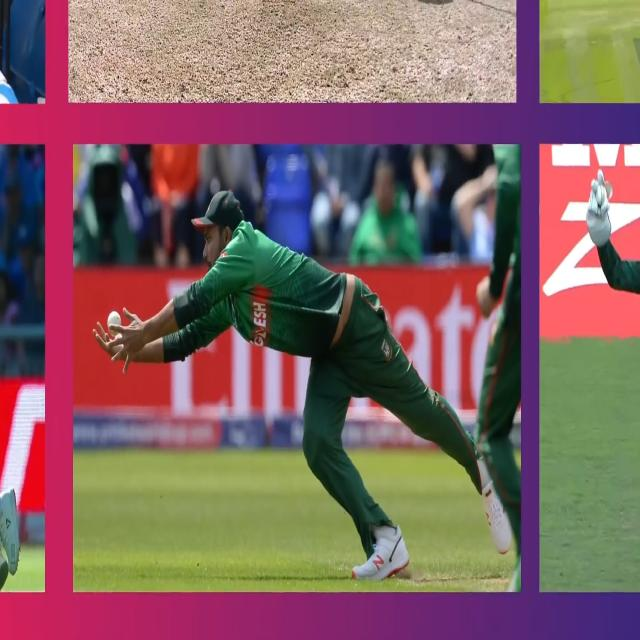ball: (97, 305, 129, 340), (591, 184, 611, 215)
